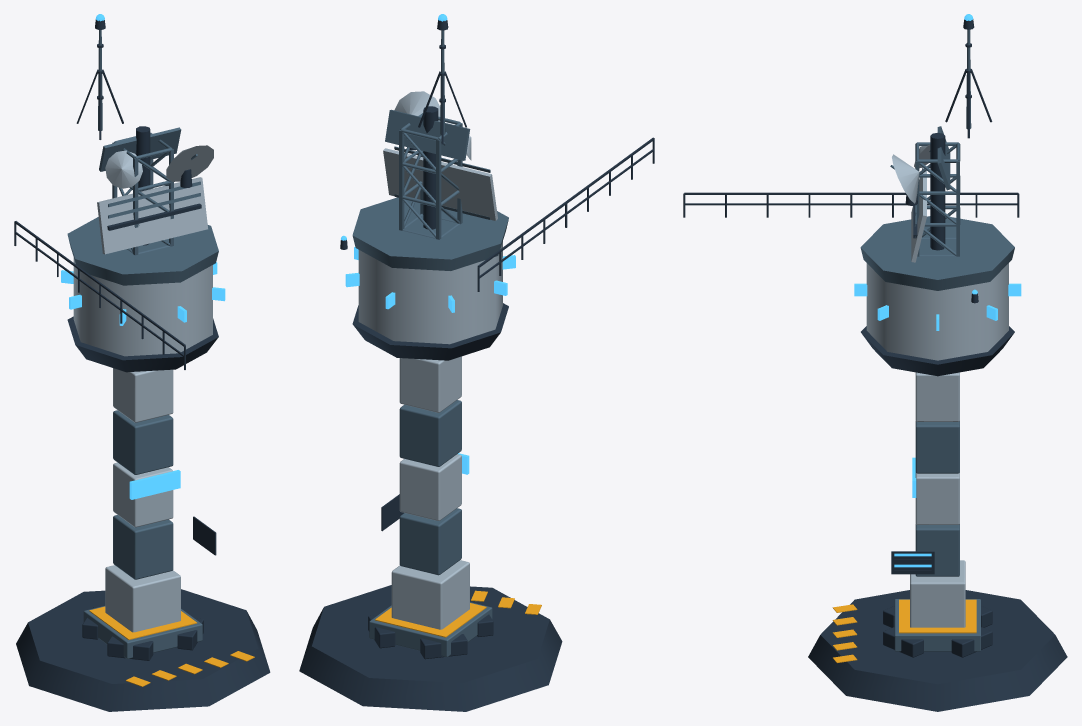
The model's file is sensor_tower.glb.
The picture shows the model from 3 angles, left to right: view 1: azimuth 30°, elevation 25°; view 2: azimuth 150°, elevation 25°; view 3: azimuth 270°, elevation 25°; orthographic projection. The views are drawn at different scales.
Parts seen in each view (by area): view 1: SensorTower, Cabin, Shaft, RadarPlates, Footing, Truss, Railing, BowlA, BowlB, Mast, Chevrons, Vent; view 2: Cabin, SensorTower, Shaft, RadarPlates, Footing, Truss, Railing, Mast, BowlA; view 3: Cabin, SensorTower, Shaft, Footing, Truss, Railing, RadarPlates, Vent, Mast, Chevrons, BowlA.
Part boxes in pixels (<box>): SensorTower: <box>16,589,270,711</box>; Cabin: <box>61,217,225,372</box>; Shaft: <box>105,126,180,632</box>; RadarPlates: <box>97,127,207,254</box>; Footing: <box>82,606,203,660</box>; Truss: <box>112,132,173,255</box>; Railing: <box>14,221,185,369</box>; BowlA: <box>166,145,213,181</box>; BowlB: <box>105,150,142,188</box>; Mast: <box>76,30,123,139</box>; Chevrons: <box>125,651,254,686</box>; Vent: <box>193,516,216,555</box>; Cabin: <box>345,197,515,360</box>; SensorTower: <box>299,585,562,711</box>; Shaft: <box>391,106,469,629</box>; RadarPlates: <box>383,109,497,220</box>; Footing: <box>368,602,493,659</box>; Truss: <box>399,113,462,239</box>; Railing: <box>477,137,654,291</box>; Mast: <box>418,30,466,144</box>; BowlA: <box>394,91,440,121</box>; Cabin: <box>854,216,1021,376</box>; SensorTower: <box>808,590,1067,711</box>; Shaft: <box>910,132,965,627</box>; Footing: <box>883,599,992,657</box>; Truss: <box>915,142,960,256</box>; Railing: <box>683,192,1019,217</box>; RadarPlates: <box>911,126,950,262</box>; Vent: <box>891,551,934,574</box>; Mast: <box>945,29,992,138</box>; Chevrons: <box>832,604,857,662</box>; BowlA: <box>890,154,919,203</box>.
Bounding box in the file's own units: 4.11 × 11 × 6.09.
